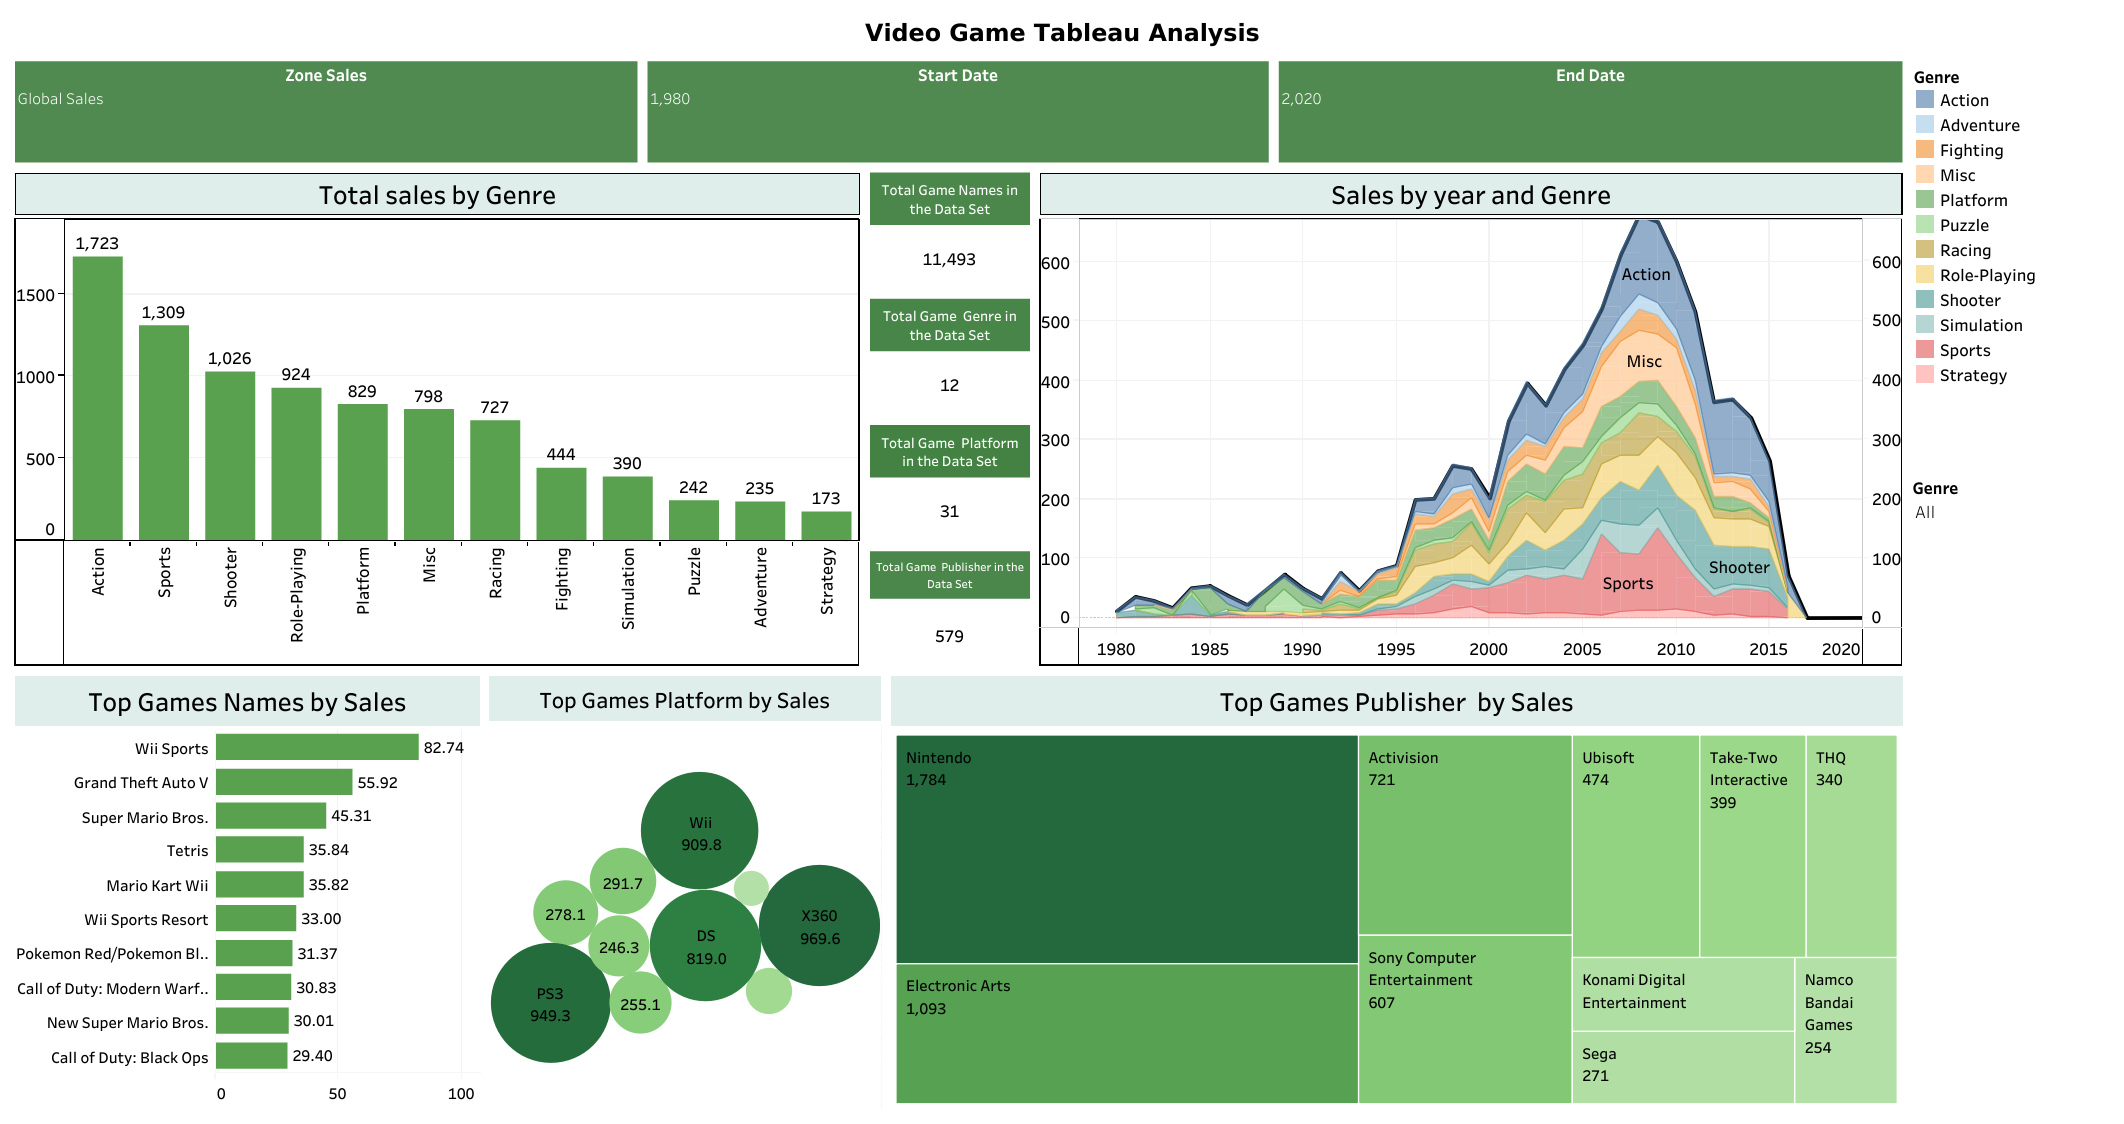

This screenshot's page, from the dashboard's own definition file:
{"tool":"tableau","page":{"name":"Dashboard 1","canvas":[1700,900],"ordinal":0},"visuals":[{"type":"text","box":[8,8,1684,37]},{"type":"parameter","param":"[Parameters].[Parameter 1]","box":[8,45,506,89.1]},{"type":"parameter","param":"[Parameters].[Parameter 2]","box":[514,45,505,89.1]},{"type":"parameter","param":"[Parameters].[Parameter 3]","box":[1019,45,507,89.1]},{"type":"legend","title":"Sales by year and Genre ","param":"[federated.18t6s0t0ss9f1q17louay14j0fu2].[none:Genre:nk]","box":[1526,45,166,330]},{"type":"worksheet","title":"Total sales by Genre","mark":"Automatic","rows":["Calculation_1035546486217822208"],"cols":["Genre"],"box":[8,134.1,684,403.4]},{"type":"worksheet","title":"Total Game Names in the Data Set","mark":"Automatic","box":[692,134.1,136,100.8]},{"type":"worksheet","title":"Sales by year and Genre ","mark":"Automatic","rows":["Calculation_1035546486217822208","Calculation_1035546486217822208"],"cols":["Year"],"box":[828,134.1,698,403.4]},{"type":"worksheet","title":"Total Game  Genre in the Data Set ","mark":"Automatic","box":[692,235,136,100.9]},{"type":"worksheet","title":"Total Game  Platform in the Data Set ","mark":"Automatic","box":[692,335.8,136,100.8]},{"type":"filter","title":"Sales by year and Genre ","param":"[federated.18t6s0t0ss9f1q17louay14j0fu2].[none:Genre:nk]","box":[1526,375,166,57]},{"type":"worksheet","title":"Total Game  Publisher in the Data Set","mark":"Automatic","box":[692,436.7,136,100.8]},{"type":"worksheet","title":"Top Games Names by Sales ","mark":"Automatic","rows":["Name"],"cols":["Calculation_1035546486217822208"],"box":[8,537.5,379.5,354.5]},{"type":"worksheet","title":"Top Games Platform by Sales ","mark":"Circle","box":[387.5,537.5,321.5,354.5]},{"type":"worksheet","title":"Top Games Publisher  by Sales","mark":"Automatic","box":[709,537.5,817,354.5]}]}

Visuals, with their boxes in screenshot pixels (x1, y1, x2, y2), scaled from the page's 1700x900 canvas onto the 2124x1124 screenshot:
text: (left=10, top=10, right=2114, bottom=56)
parameter: (left=10, top=56, right=642, bottom=167)
parameter: (left=642, top=56, right=1273, bottom=167)
parameter: (left=1273, top=56, right=1907, bottom=167)
"Sales by year and Genre " legend: (left=1907, top=56, right=2114, bottom=468)
"Total sales by Genre" worksheet: (left=10, top=167, right=865, bottom=671)
"Total Game Names in the Data Set" worksheet: (left=865, top=167, right=1035, bottom=293)
"Sales by year and Genre " worksheet: (left=1035, top=167, right=1907, bottom=671)
"Total Game  Genre in the Data Set " worksheet: (left=865, top=293, right=1035, bottom=420)
"Total Game  Platform in the Data Set " worksheet: (left=865, top=419, right=1035, bottom=545)
"Sales by year and Genre " filter: (left=1907, top=468, right=2114, bottom=540)
"Total Game  Publisher in the Data Set" worksheet: (left=865, top=545, right=1035, bottom=671)
"Top Games Names by Sales " worksheet: (left=10, top=671, right=484, bottom=1114)
"Top Games Platform by Sales " worksheet (Circle marks): (left=484, top=671, right=886, bottom=1114)
"Top Games Publisher  by Sales" worksheet: (left=886, top=671, right=1907, bottom=1114)
